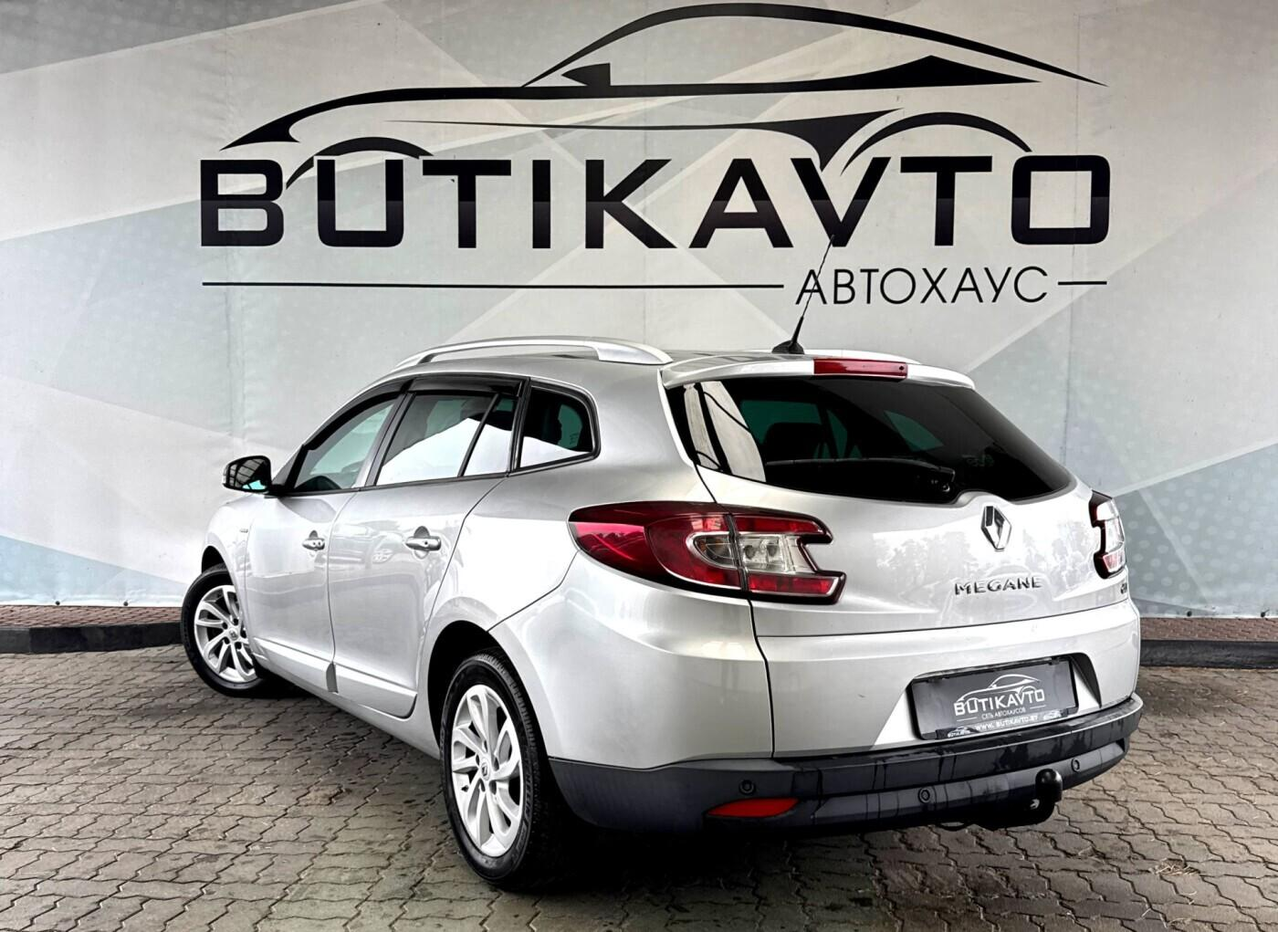Megane_2014-2016: (177, 343, 1158, 902)
